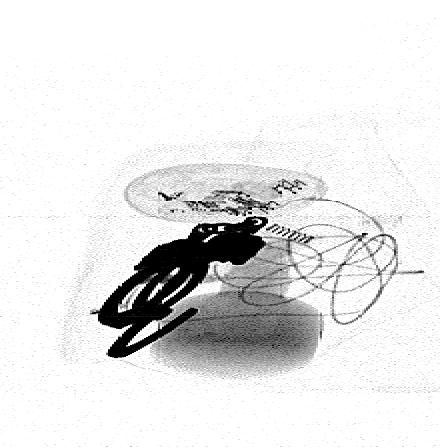HandCuffs: (96, 214, 276, 361)
